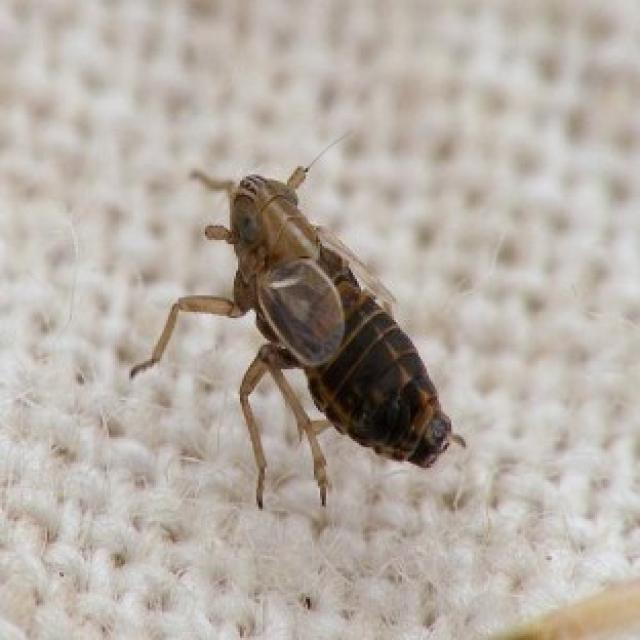brown plant hopper: (133, 168, 462, 505)
